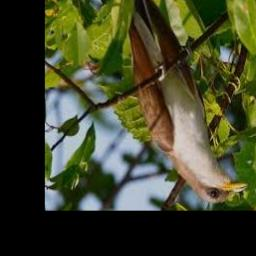Cuckoo: (121, 0, 246, 206)
